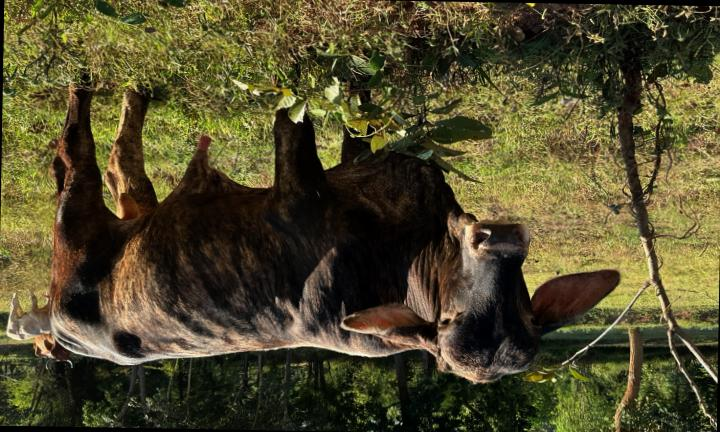Charolais: (50, 85, 619, 383)
